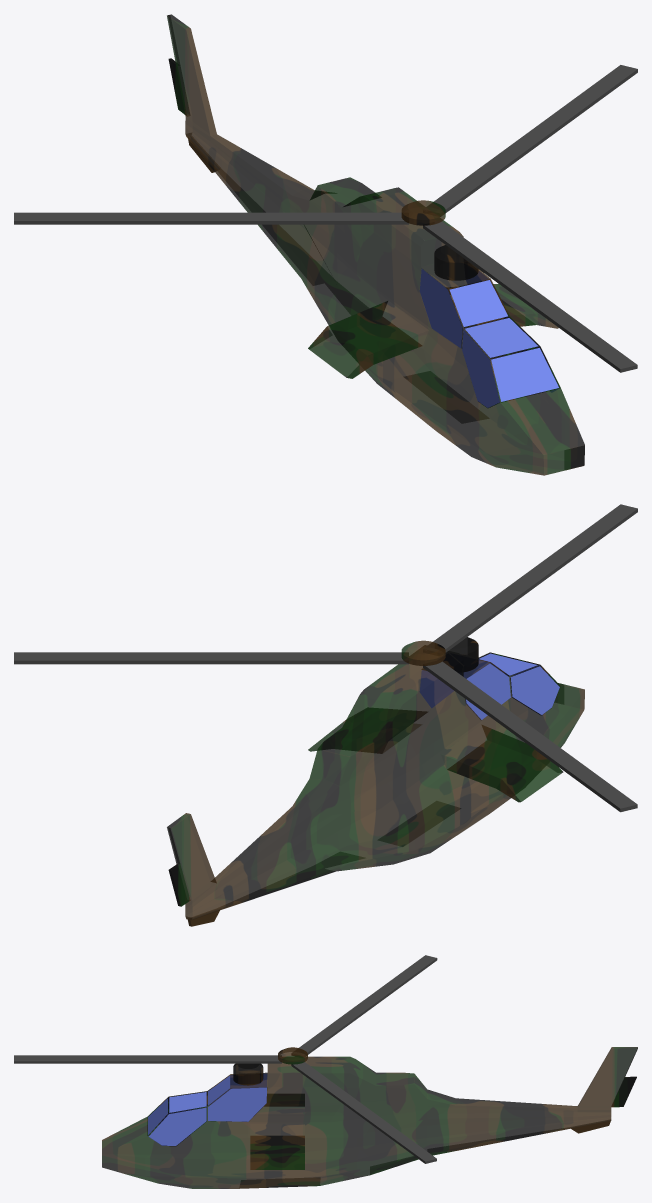
Rendered from helicopter.glb.
3 views of the same model, one above another, from view 1: azimuth 30°, elevation 25°; view 2: azimuth 150°, elevation 25°; view 3: azimuth 270°, elevation 25° (orthographic). The views are drawn at different scales.
Parts seen in each view (by area): view 1: Tigre, Tigre.001; view 2: Tigre, Tigre.001; view 3: Tigre, Tigre.001.
Part boxes in pixels (left/top/right/bottom): Tigre: left=167, top=14, right=584, bottom=475; Tigre.001: left=14, top=65, right=637, bottom=372; Tigre: left=167, top=637, right=584, bottom=926; Tigre.001: left=14, top=504, right=637, bottom=812; Tigre: left=102, top=1047, right=637, bottom=1188; Tigre.001: left=14, top=955, right=437, bottom=1163.
Bounding box in the file's own units: 8.85 × 2.64 × 11.31.
3 materials, 1 textured.
